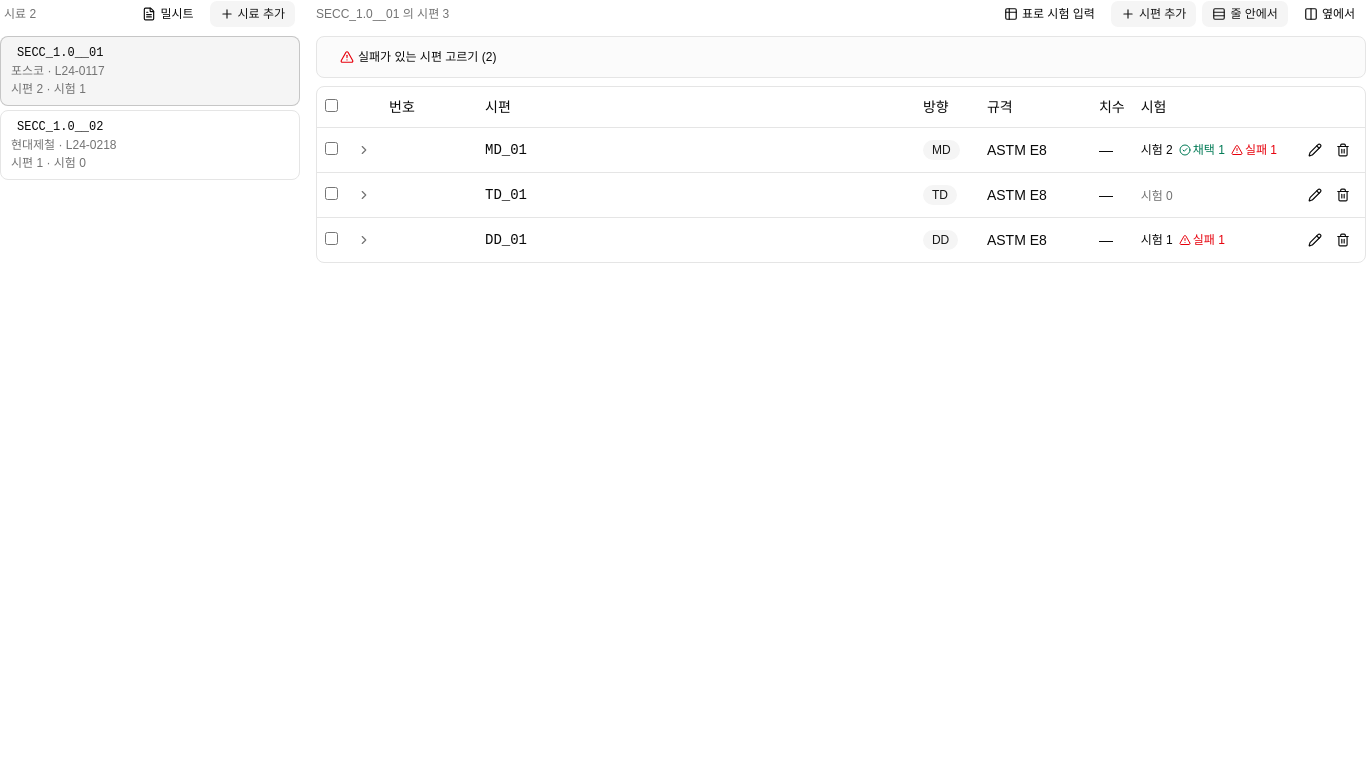
Test: 시편 골라 지우기 (2026-10-20) › 고른 것이 전부 막히면 삭제가 안 눌린다
Expected: the text "MD_01" is shown, [485,142,527,158]
Step 1. Click the checkbox named "TD_01 선택" → (332, 193), box [325,186,338,200]
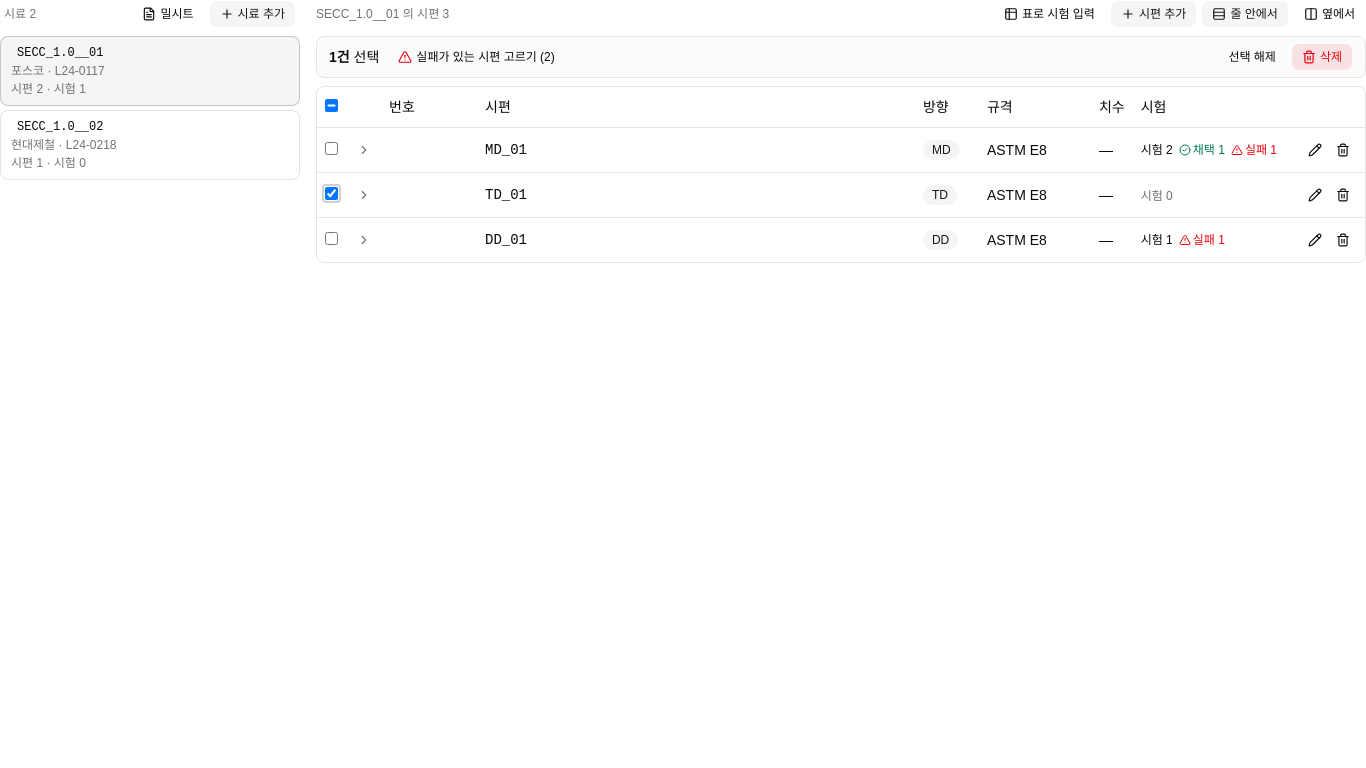
Step 2. Click the button "삭제" → (1322, 57), box [1291,43,1353,71]
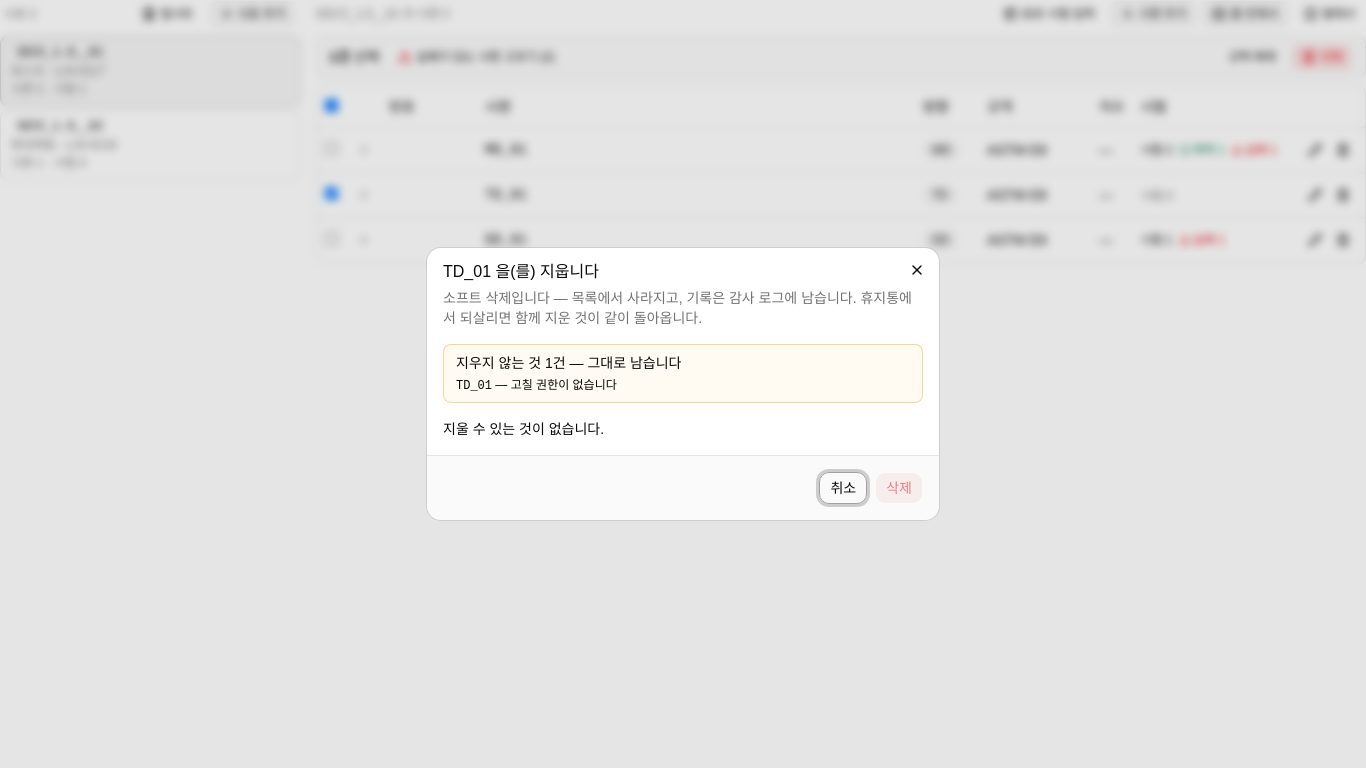
Expected: the text "지울 수 있는 것이 없습니다." is shown, [443,421,604,437]
Expected: the dialog shows "고칠 권한이 없습니다", [511,378,617,392]
Expected: the button "삭제" is disabled, [875,472,923,504]
